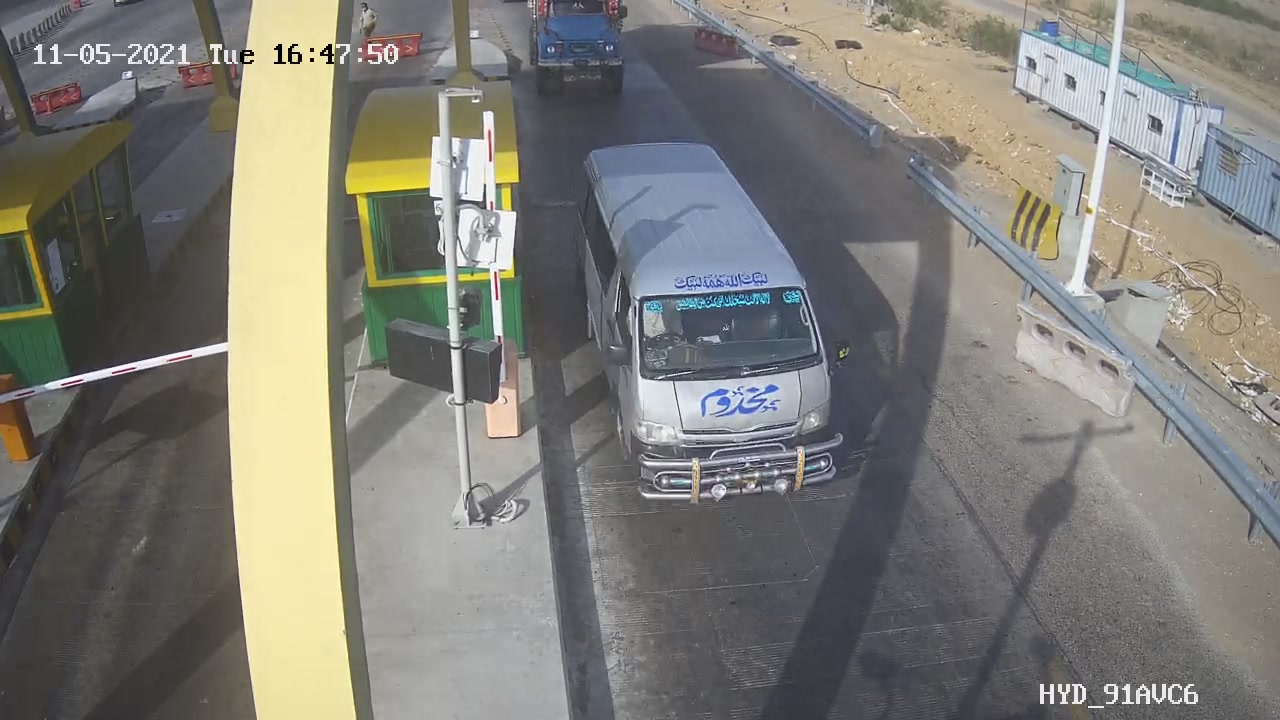F2: (550, 124, 872, 526)
